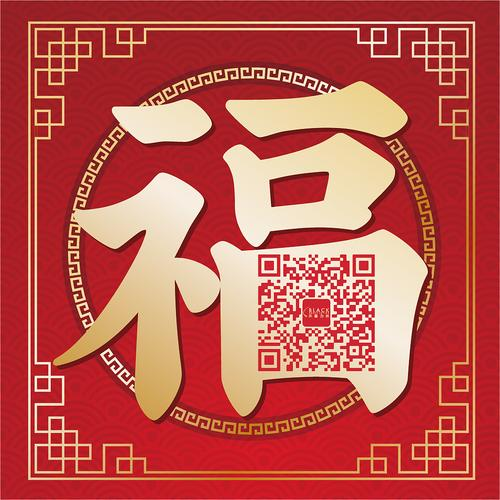QRCode: (251, 252, 380, 373)
